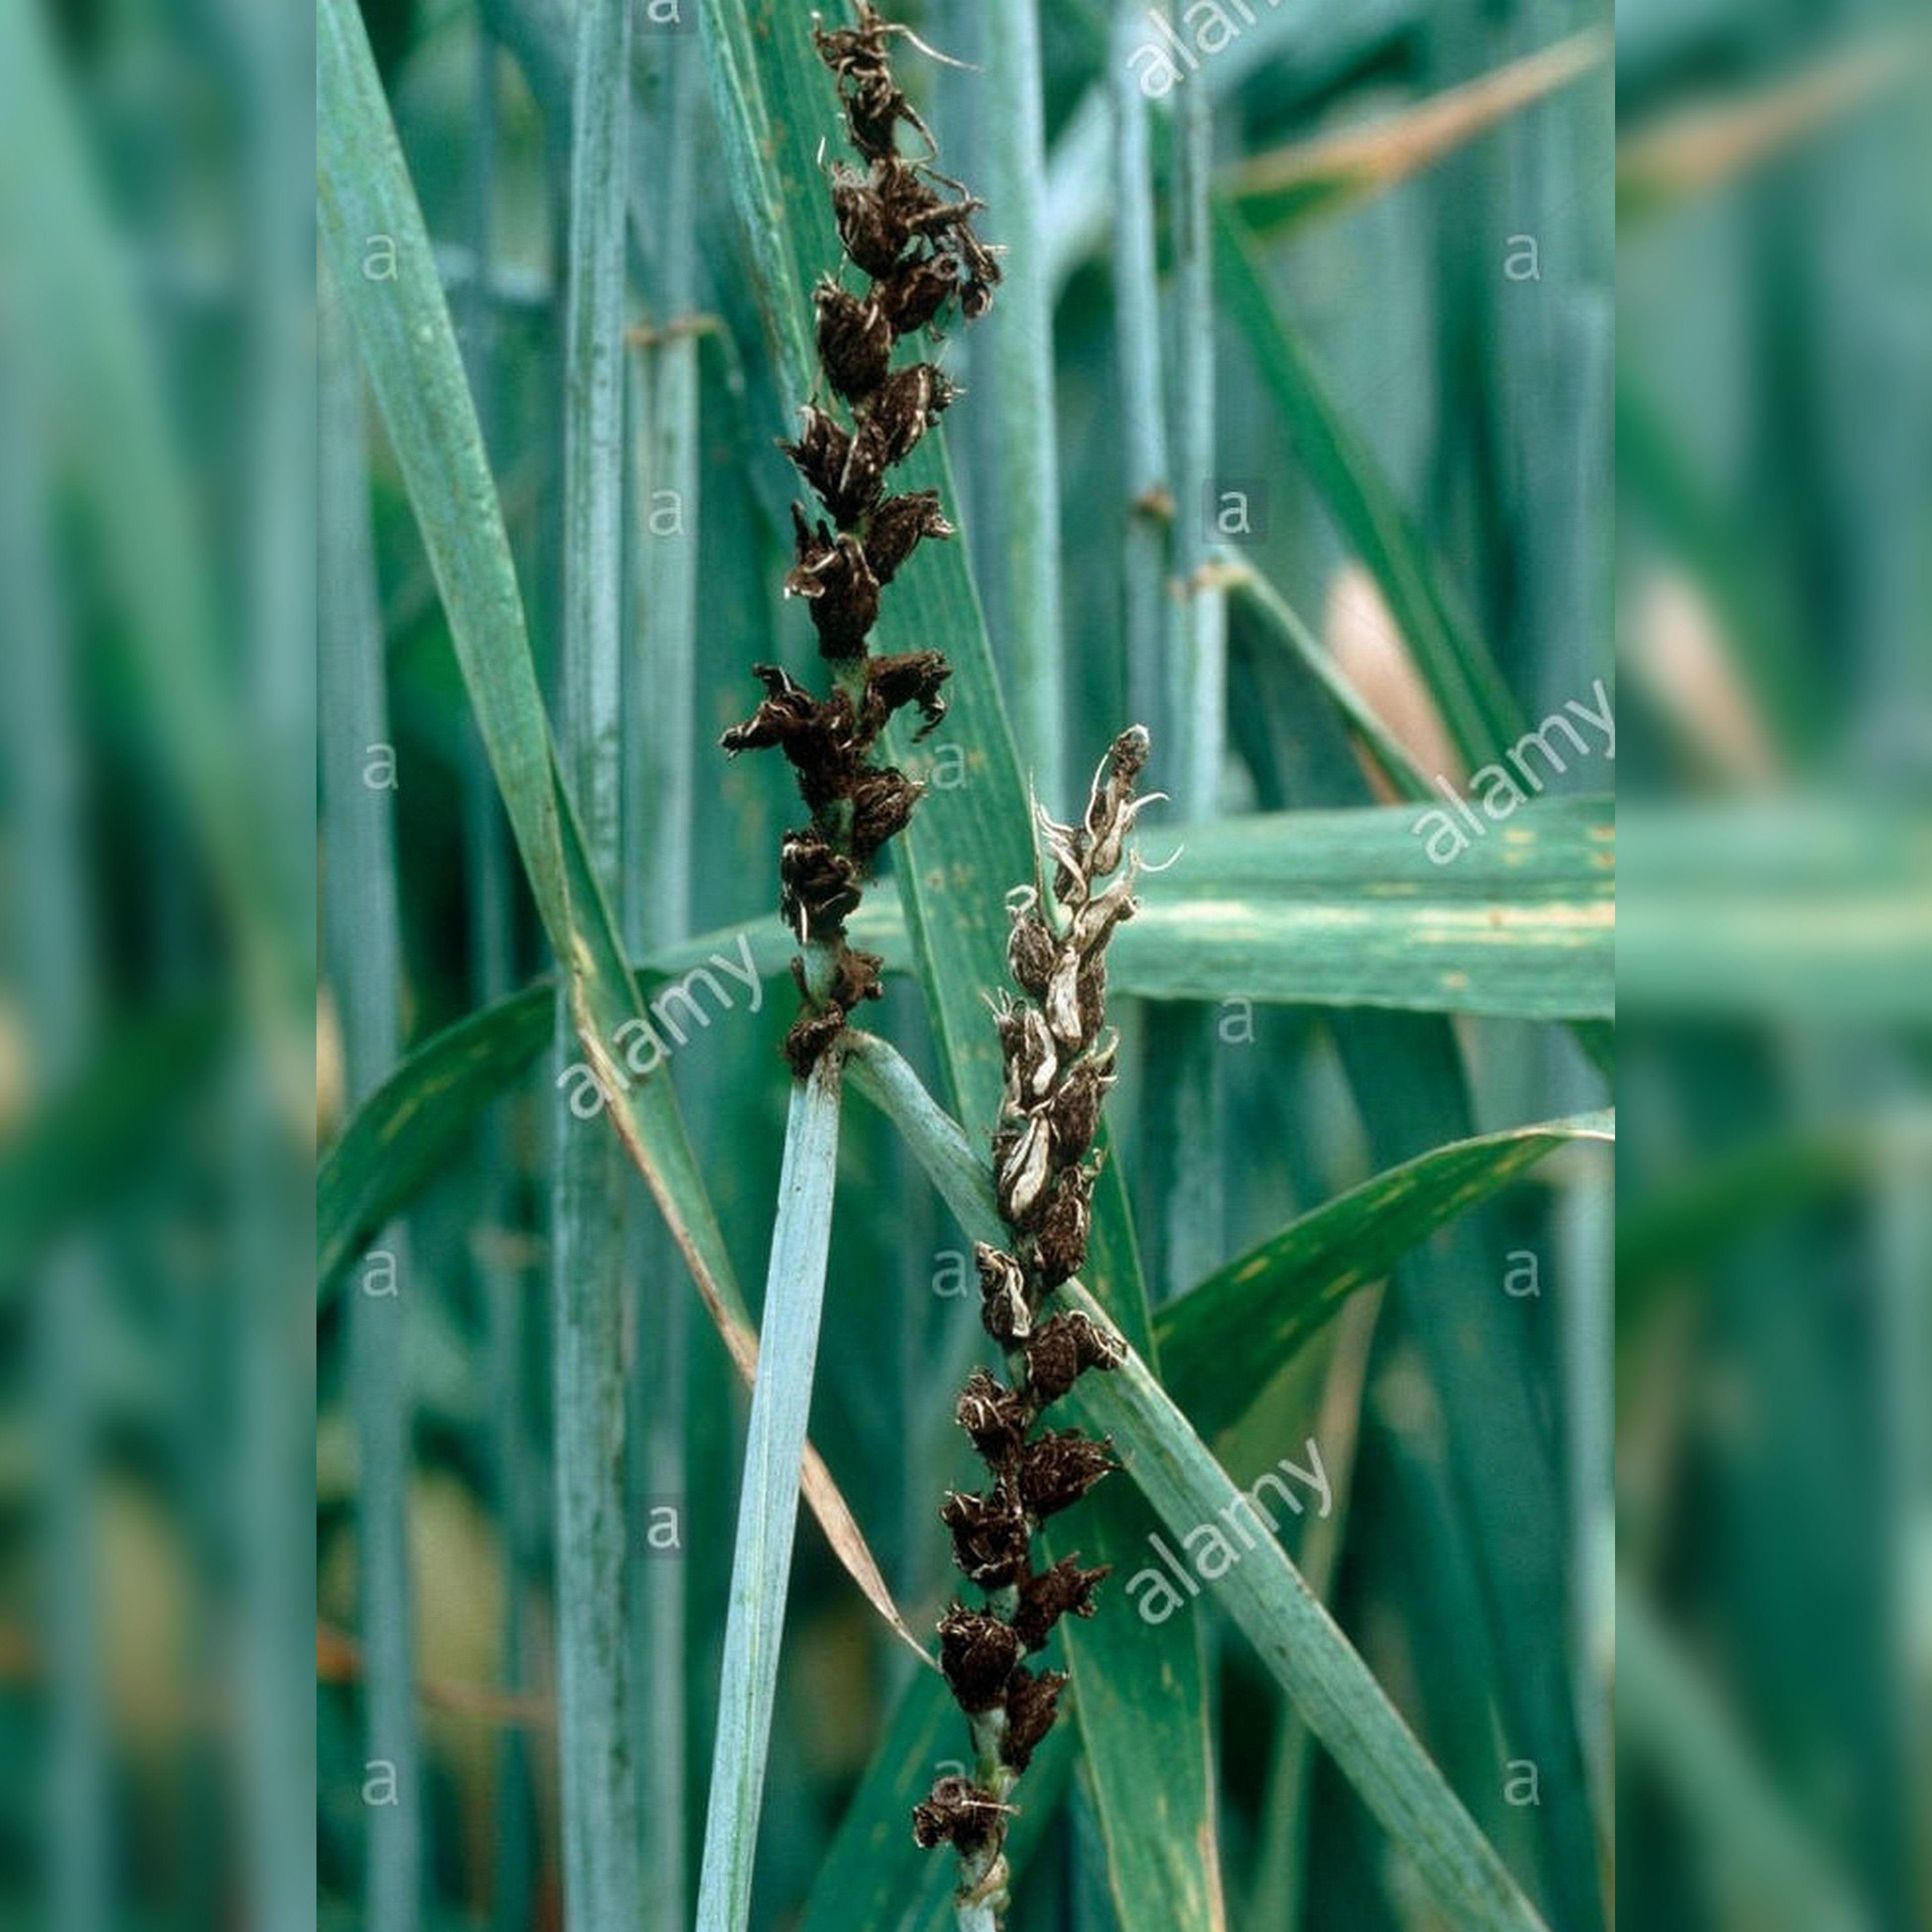Wheat Loose Smut: (934, 717, 1210, 1799), (748, 28, 954, 1047)
